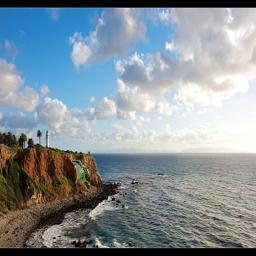Cuckoo: (72, 159, 91, 185)
